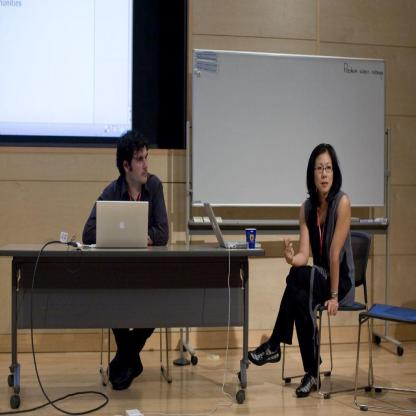board: (87, 200, 150, 247), (204, 205, 261, 248), (245, 228, 257, 248)
